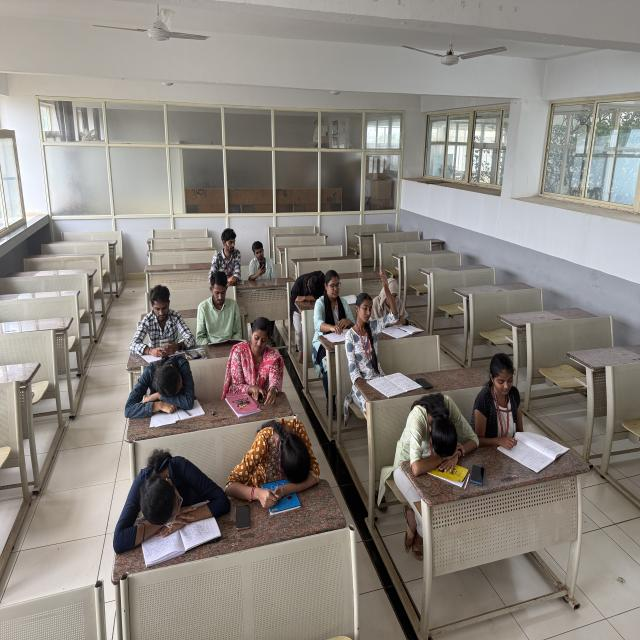Hand Rising: (347, 257, 402, 407)
Sleeping: (106, 441, 226, 560), (387, 371, 484, 503), (222, 407, 328, 524), (119, 352, 207, 443), (288, 249, 329, 325)
Using Phone: (125, 258, 196, 356), (244, 233, 281, 289)
Writing: (468, 351, 570, 466)
